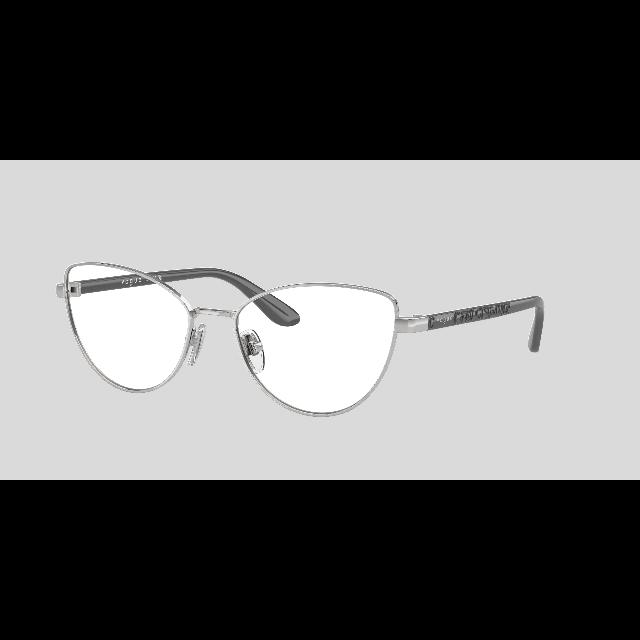glasses: (52, 253, 550, 421)
